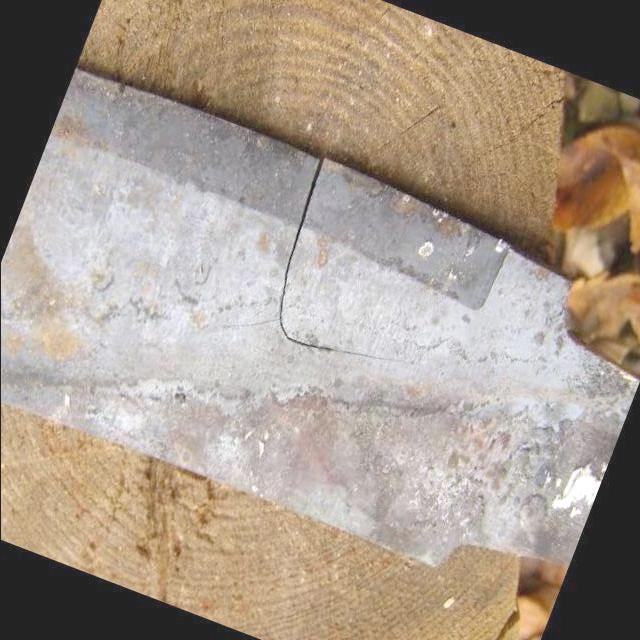defect: (273, 158, 404, 364)
